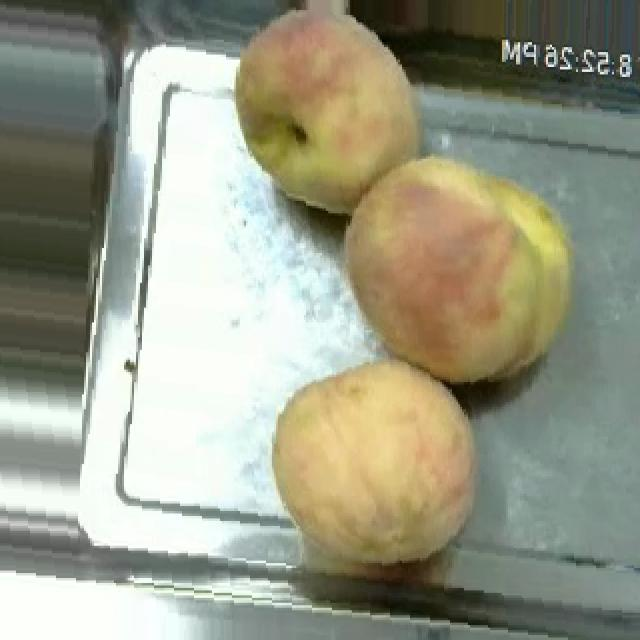Fruit: (328, 139, 588, 397), (260, 345, 492, 575), (222, 0, 436, 226)
